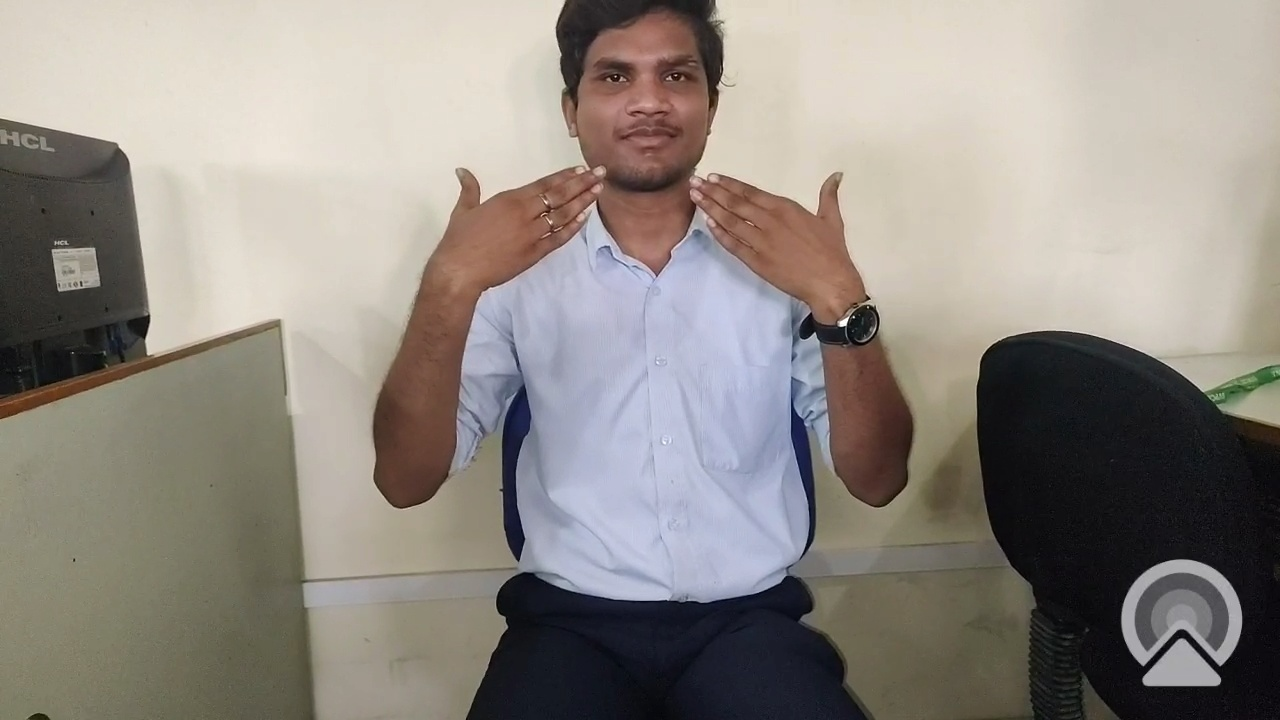Thank you: (397, 148, 913, 450)
